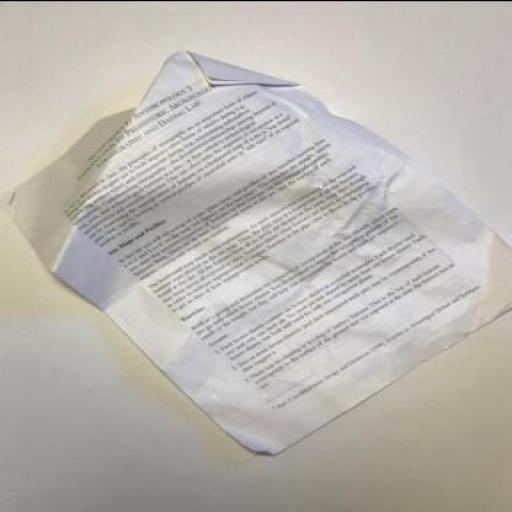paper: (10, 46, 511, 454)
